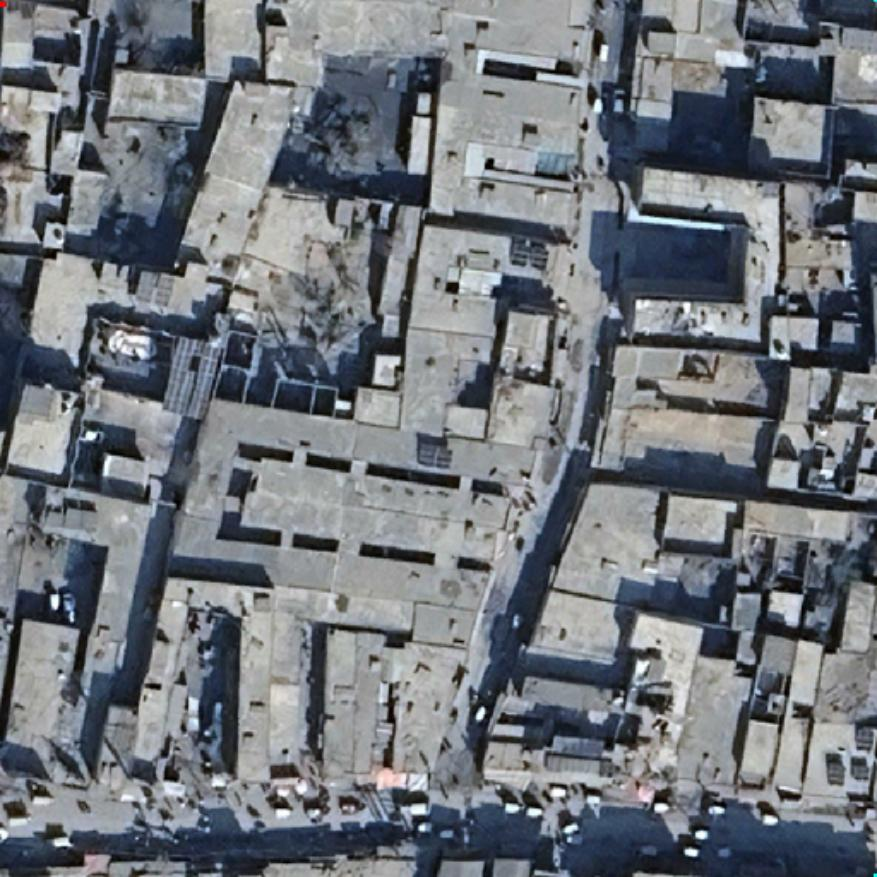Solarpanel: (162, 333, 228, 426), (509, 236, 548, 270), (416, 439, 452, 468), (826, 760, 844, 784), (854, 727, 874, 747), (851, 761, 869, 779)
